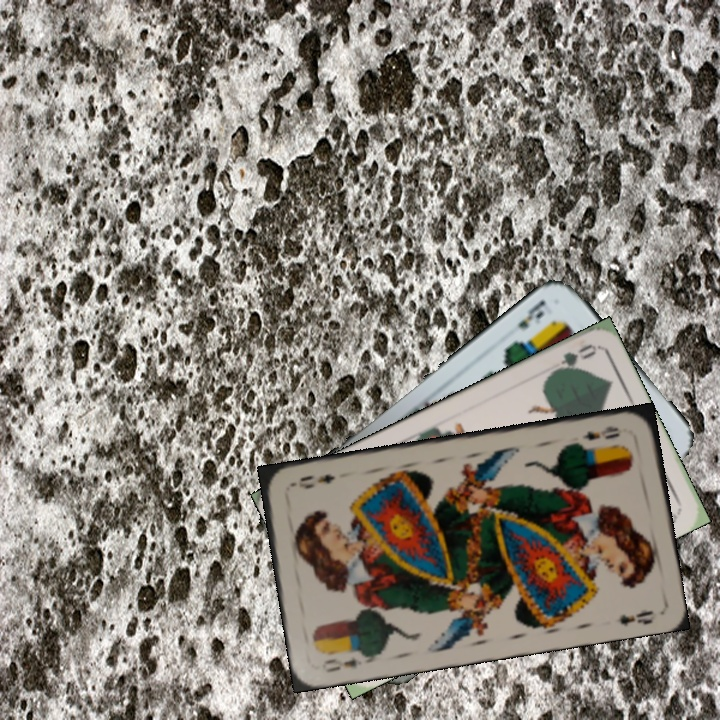EK: (513, 295, 548, 332)
EO: (318, 646, 374, 676), (578, 422, 622, 443)
GO: (544, 340, 598, 380)
